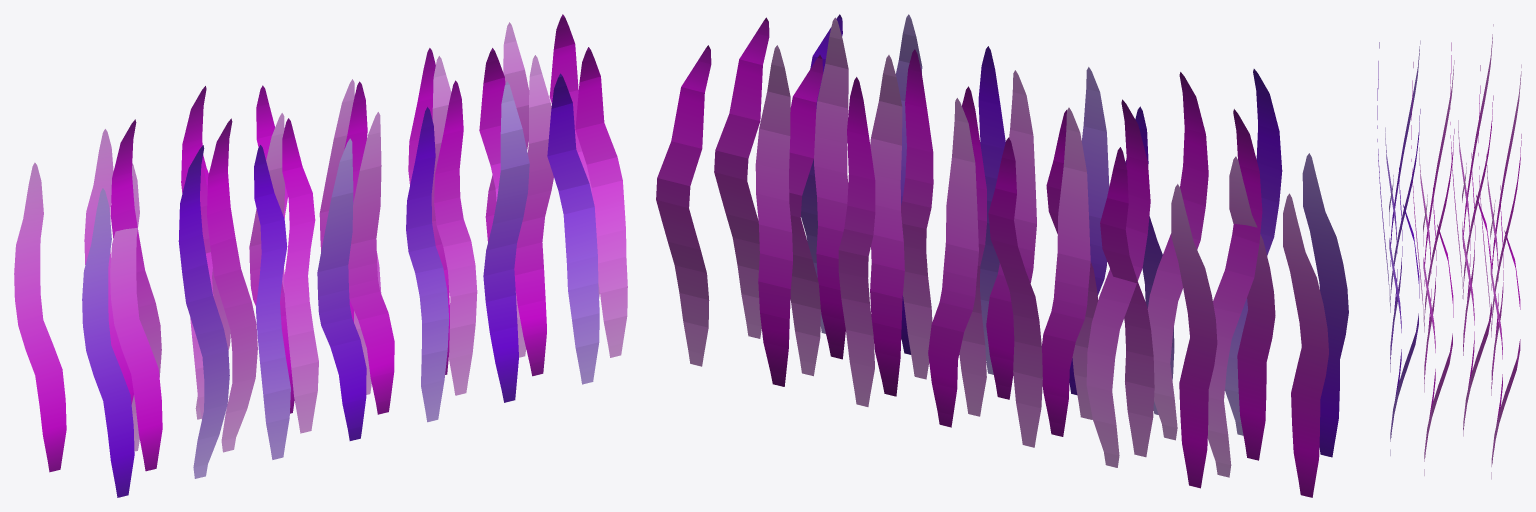
Rendered from plantA_001.fbx.
The picture shows the model from 3 angles, left to right: view 1: azimuth 30°, elevation 25°; view 2: azimuth 150°, elevation 25°; view 3: azimuth 270°, elevation 25°; orthographic projection. The views are drawn at different scales.
Parts seen in each view (by area): view 1: plantA.001; view 2: plantA.001; view 3: plantA.001.
Part boxes in pixels (x1,y1,x2,y2): plantA.001: (14, 14, 627, 497); plantA.001: (656, 14, 1348, 497); plantA.001: (1377, 24, 1521, 479).
Size of the model in its own units: 145 by 77.45 by 35.53.
